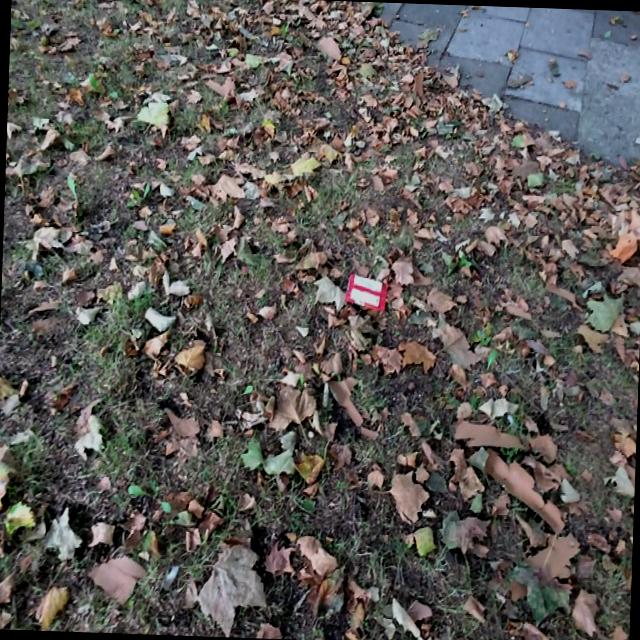Trash: (344, 270, 388, 314)
